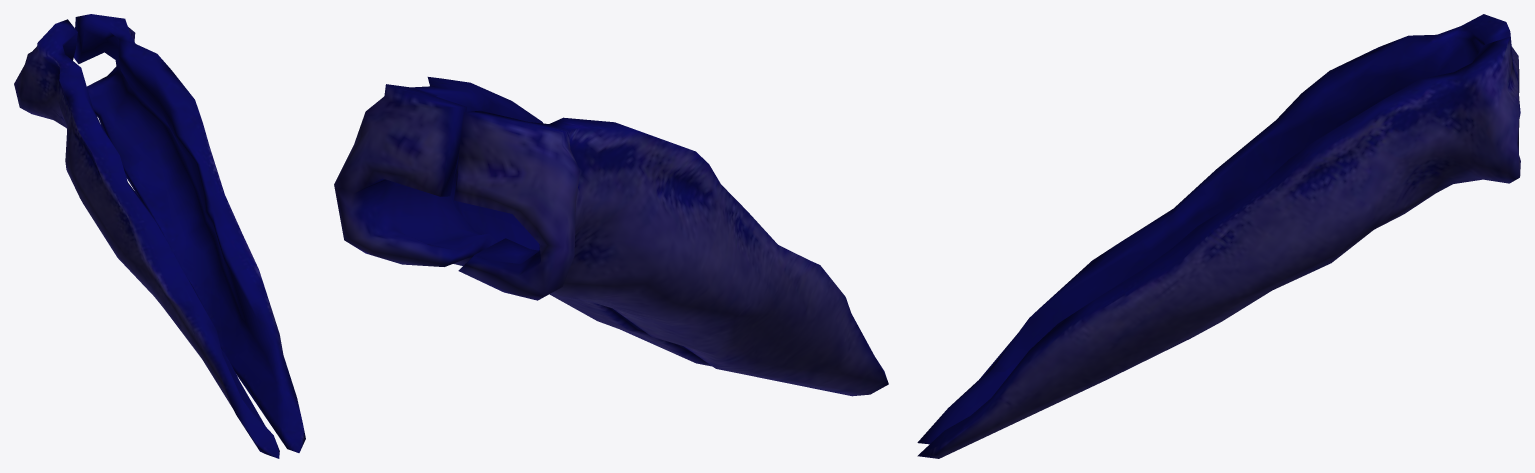
The model's file is Ventral_Nasal_Concha.glb.
The picture shows the model from 3 angles, left to right: view 1: azimuth 30°, elevation 25°; view 2: azimuth 150°, elevation 25°; view 3: azimuth 270°, elevation 25°; orthographic projection. The views are drawn at different scales.
Parts seen in each view (by area): view 1: ventral_nasal_concha.002; view 2: ventral_nasal_concha.002; view 3: ventral_nasal_concha.002.
Part boxes in pixels (left/top/right/bottom): ventral_nasal_concha.002: left=14, top=14, right=305, bottom=458; ventral_nasal_concha.002: left=334, top=77, right=888, bottom=396; ventral_nasal_concha.002: left=917, top=14, right=1520, bottom=458.
Size of the model in its own units: 0.0875 by 0.2007 by 0.2663.
Materials: 1 (1 with a texture image).
